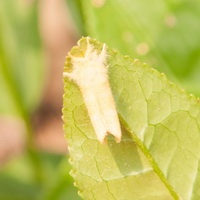insect: (63, 37, 199, 199), (64, 37, 121, 142)
